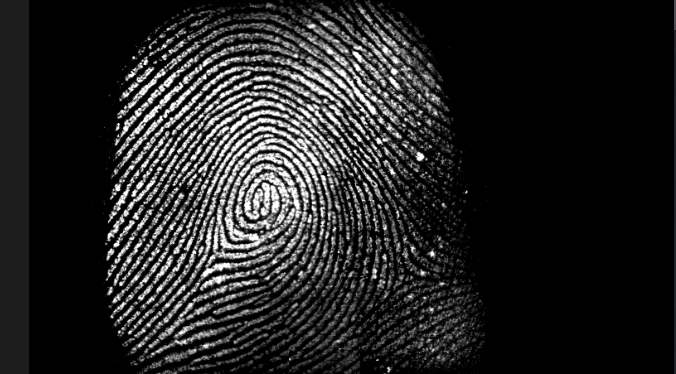nucelo: (250, 182, 280, 216)
verticilo: (391, 259, 419, 287), (203, 242, 227, 268)
